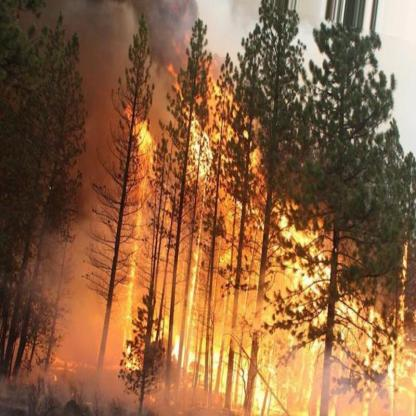fire: (179, 73, 264, 400), (276, 212, 412, 412), (126, 91, 150, 370)
